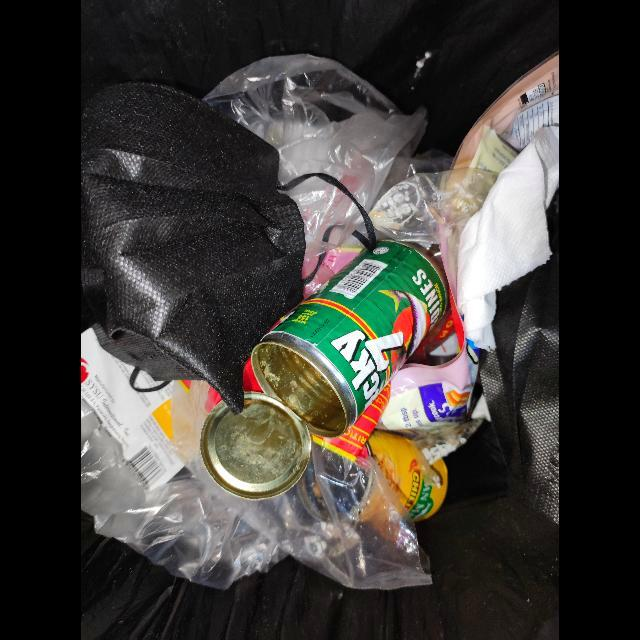aluminum: (201, 241, 449, 500), (368, 430, 449, 522)
paper: (458, 125, 560, 351)
